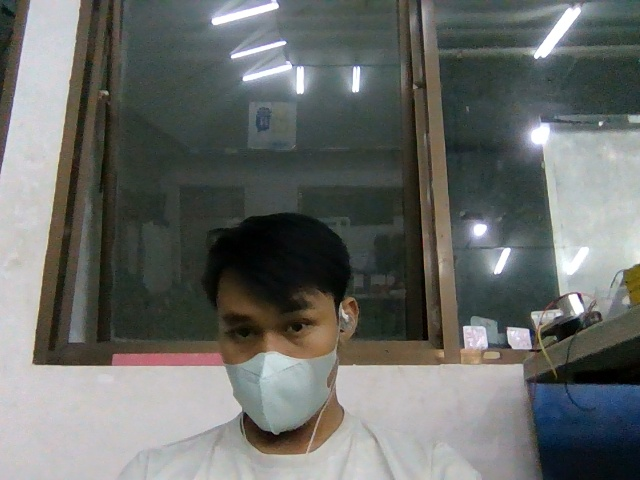mask_on: (223, 352, 337, 434)
